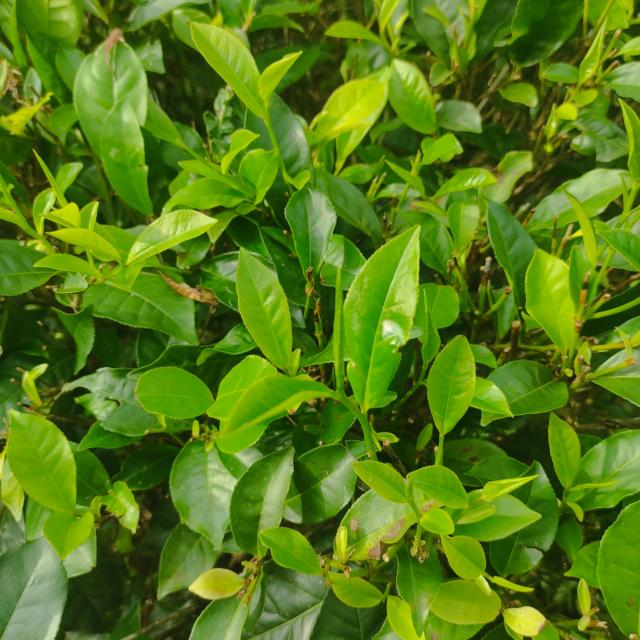unopened_leaf: (327, 254, 349, 388), (30, 145, 70, 206), (0, 171, 34, 225), (559, 475, 627, 501)
